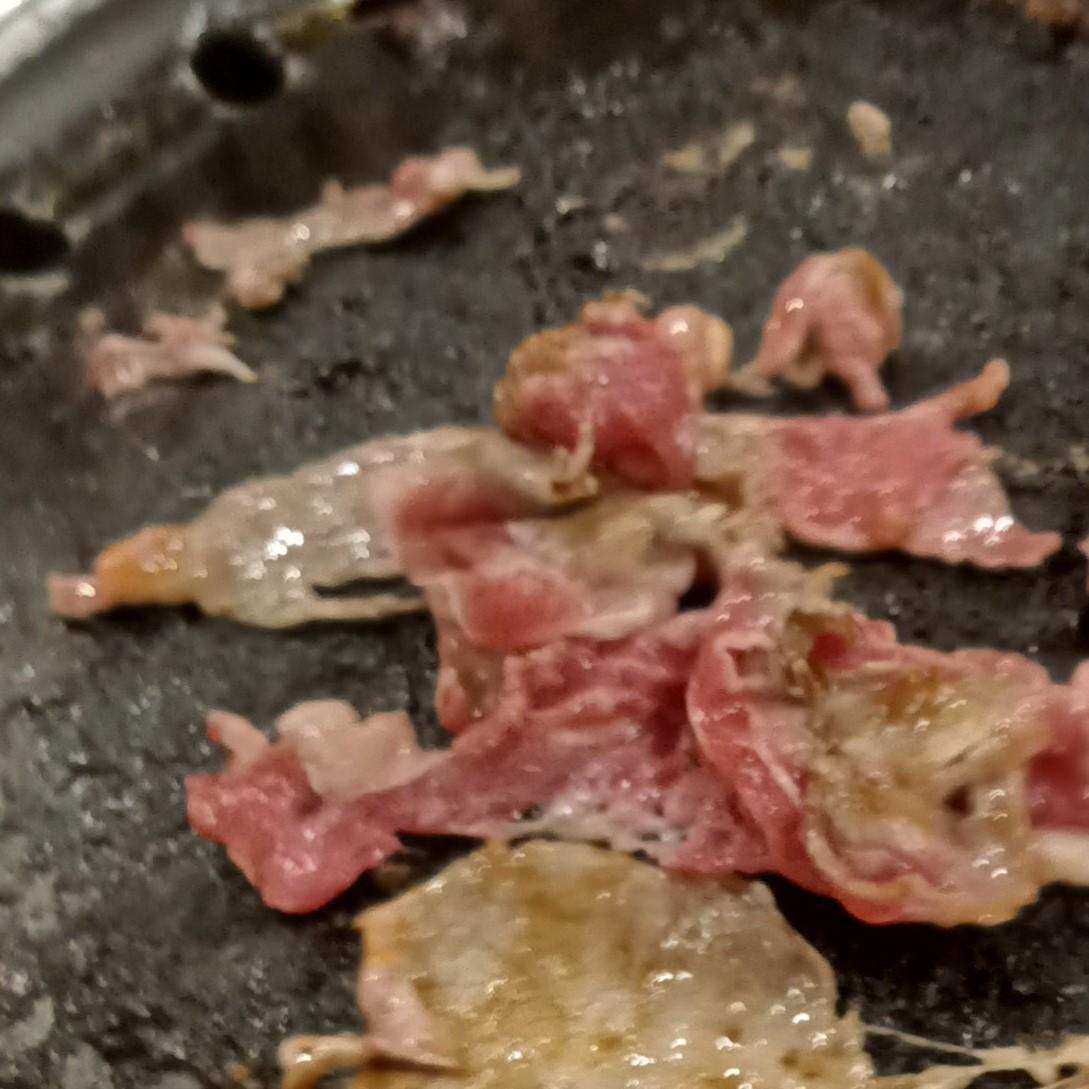Undercooked: (75, 250, 1088, 971)
